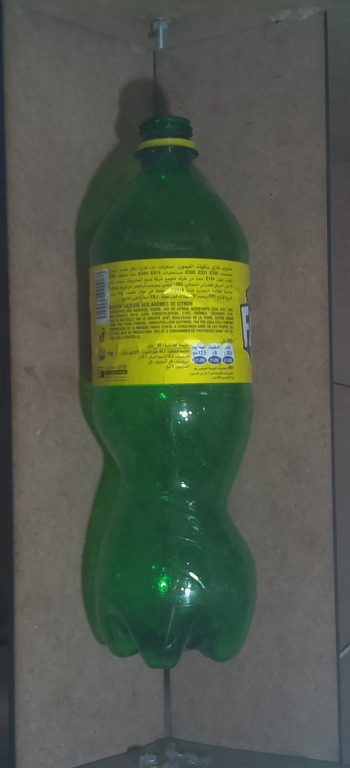Bouteille_1L: (71, 107, 271, 676)
